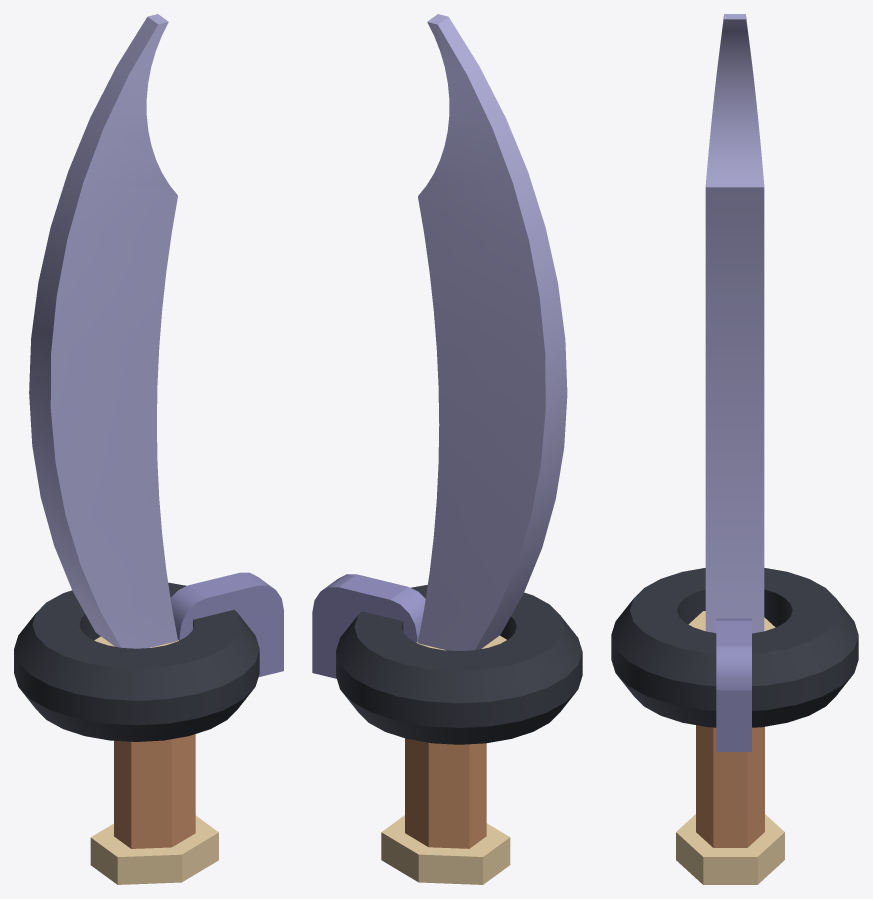
Rendered from SwordTwo.fbx.
3 views of the same model, side by side, from view 1: azimuth 30°, elevation 25°; view 2: azimuth 150°, elevation 25°; view 3: azimuth 270°, elevation 25° (orthographic).
Parts seen in each view (by area): view 1: mergedBlocks; view 2: mergedBlocks; view 3: mergedBlocks.
Boxes of the visible parts, bbox=[...] form: mergedBlocks: bbox=[14, 14, 283, 884]; mergedBlocks: bbox=[312, 14, 582, 884]; mergedBlocks: bbox=[611, 14, 858, 884].
Bounding box in the file's own units: 4.59 × 15.1 × 4.
